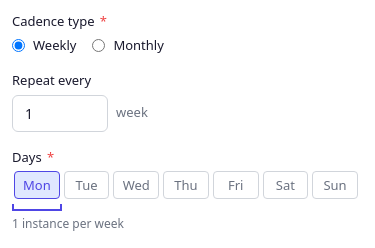
it: RecurringSection — switching cadence type › shows day-of-month input after switching to Monthly
This screenshot has width=375, height=248.
Click the radio button labelled "Monthly".
click(99, 45)  # box [92, 39, 105, 52]
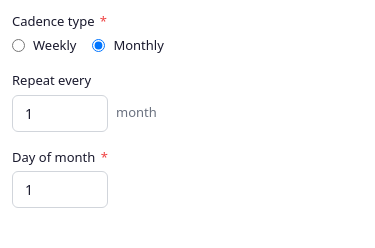
Expected: the number field labelled "Day of month *" is shown, [12, 171, 108, 208]
